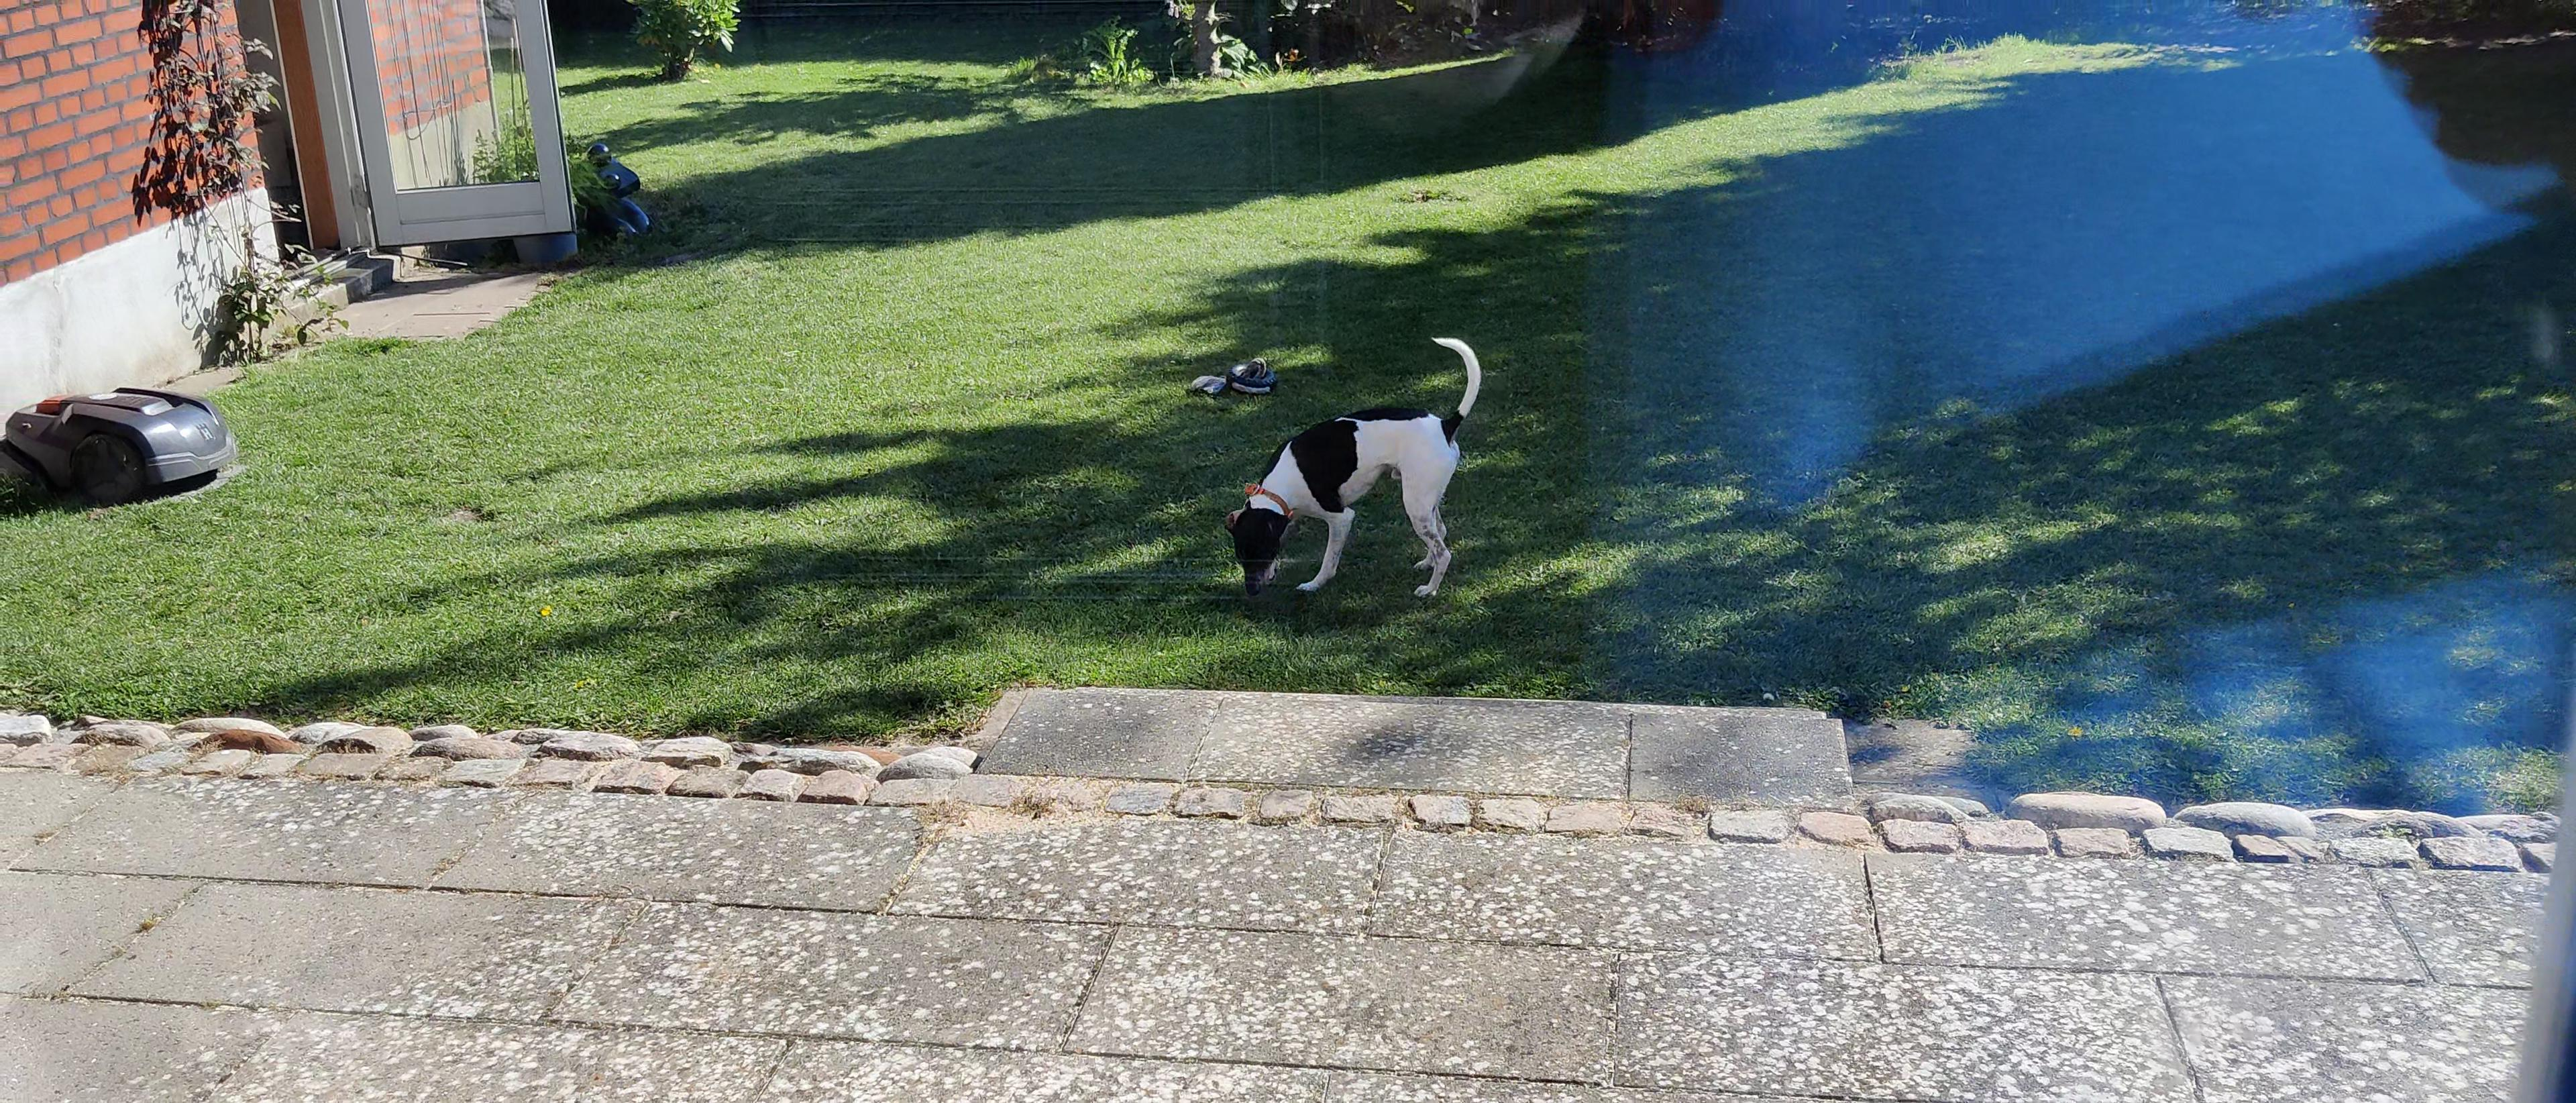Dog: (1219, 335, 1485, 595)
